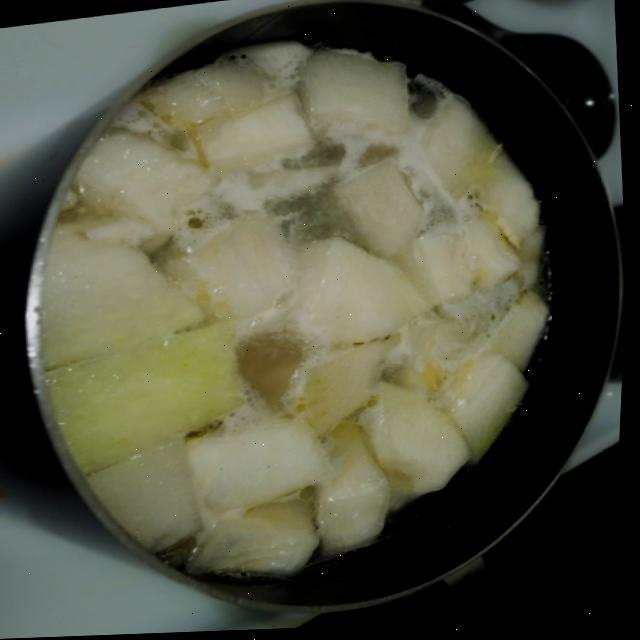汤锅炖物: (0, 0, 627, 619)
